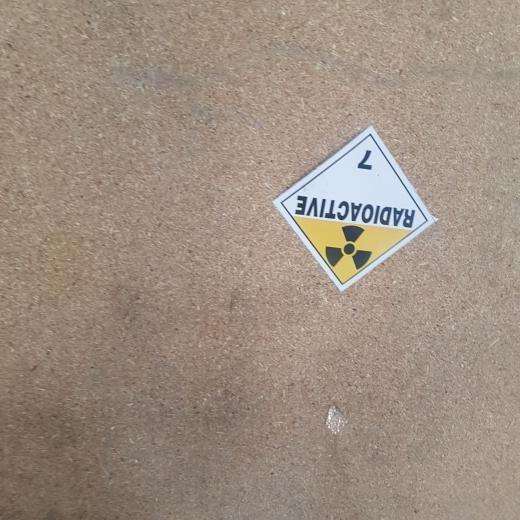radioactive: (280, 133, 428, 284)
